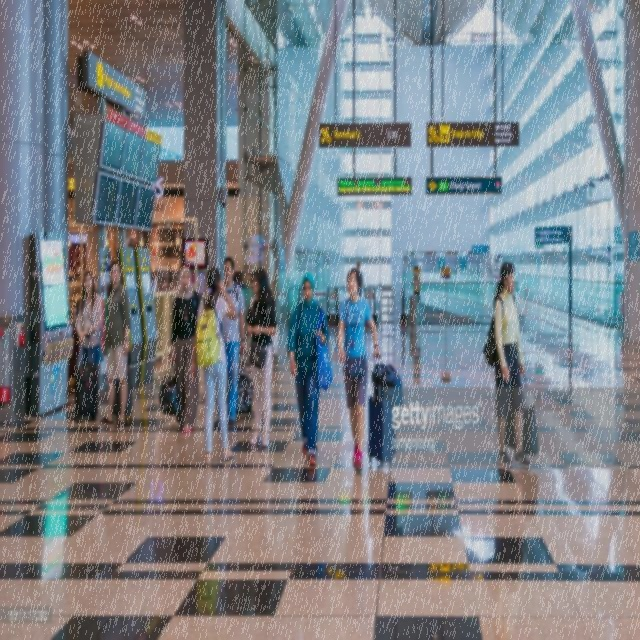pessoa: (480, 258, 540, 472), (188, 263, 240, 467), (335, 266, 384, 476), (285, 268, 334, 468), (158, 266, 201, 434), (242, 263, 280, 449), (212, 254, 247, 428), (99, 258, 134, 430), (491, 486, 524, 612), (200, 469, 223, 619), (254, 461, 276, 599), (75, 269, 104, 370), (356, 256, 364, 298), (71, 298, 80, 328)
